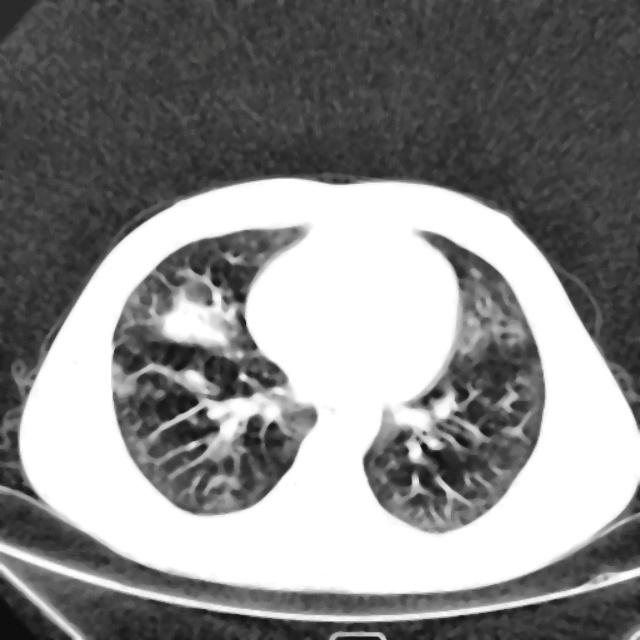covid: (15, 174, 639, 596)
